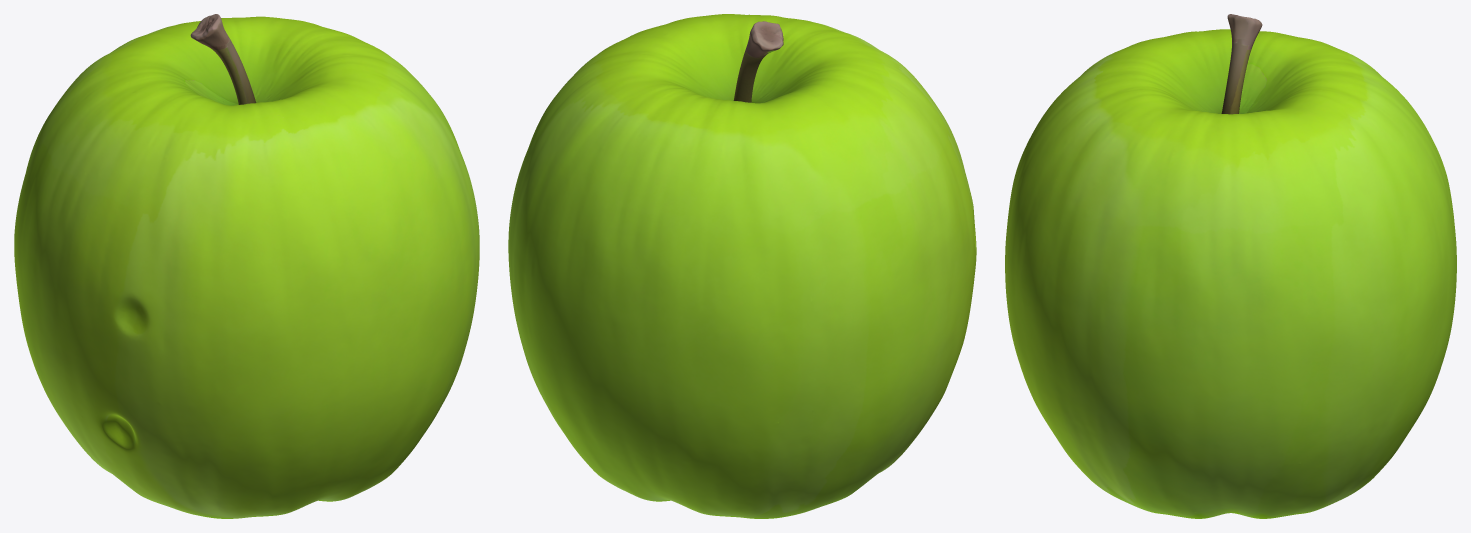
Rendered from apple.glb.
3 renders of one model, left to right at view 1: azimuth 30°, elevation 25°; view 2: azimuth 150°, elevation 25°; view 3: azimuth 270°, elevation 25°, orthographic. The views are drawn at different scales.
Bounding box in the file's own units: 1.74 × 1.9 × 1.74.
1 material, 1 textured.
